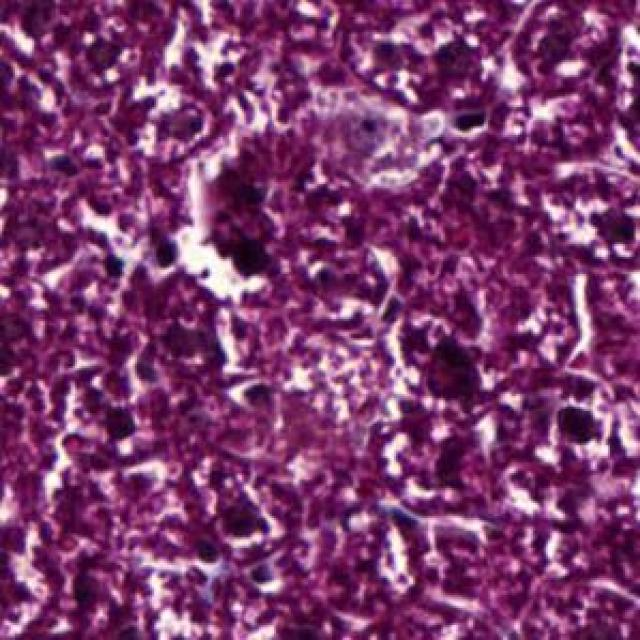inflammation: (152, 220, 274, 308), (381, 306, 492, 398), (558, 194, 640, 276), (540, 387, 614, 469), (218, 482, 280, 552)
